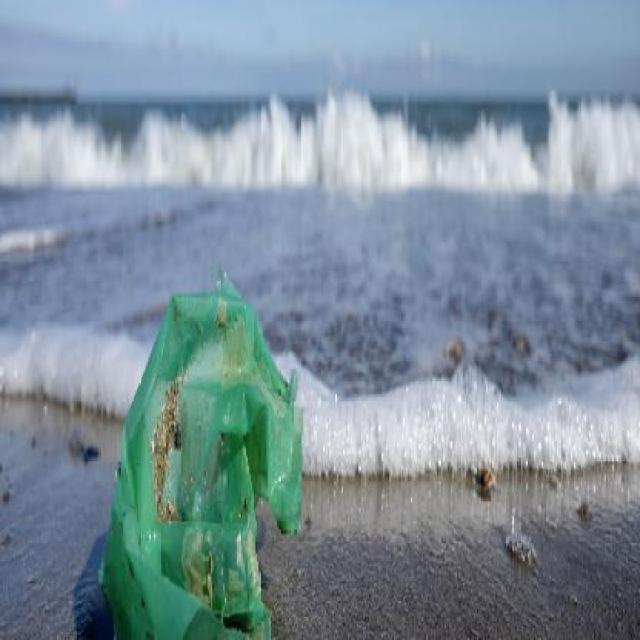plastic bag: (86, 280, 306, 638)
